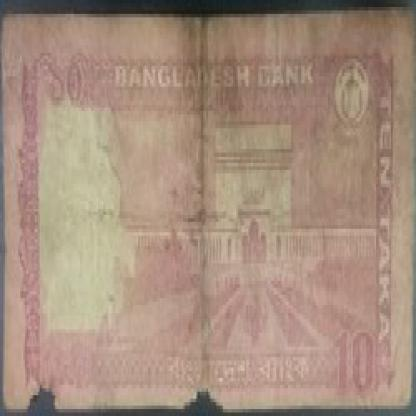Ten Taka: (330, 323, 380, 402), (38, 48, 90, 114)
